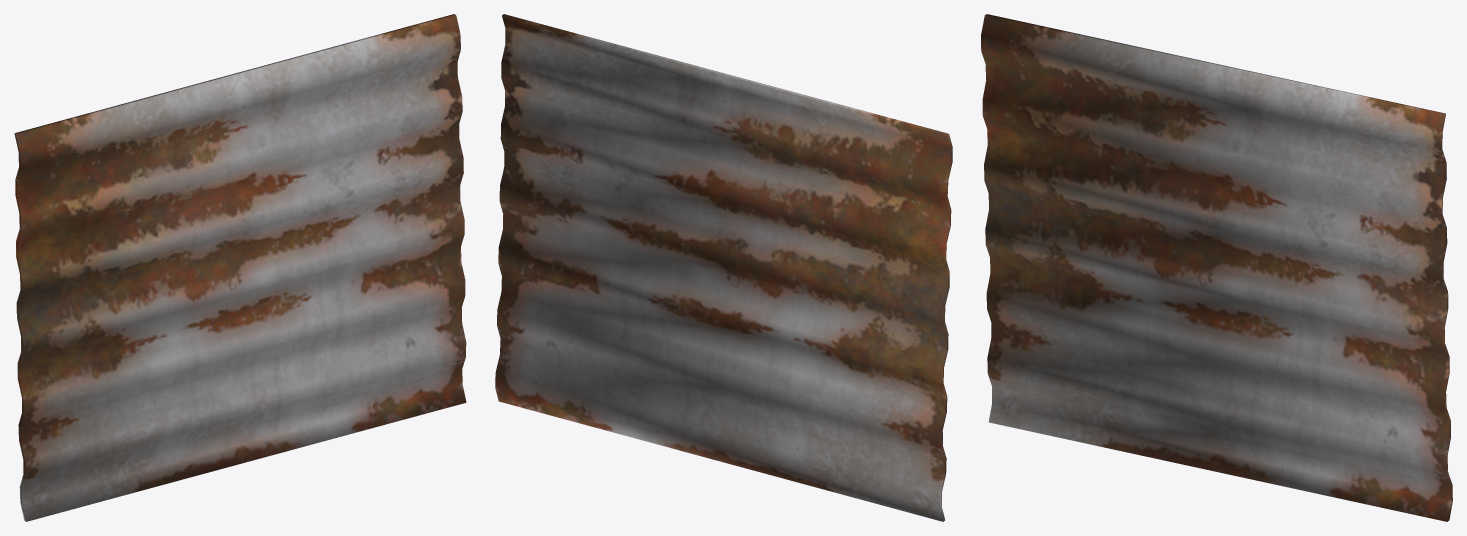
3 renders of one model, left to right at view 1: azimuth 30°, elevation 25°; view 2: azimuth 150°, elevation 25°; view 3: azimuth 330°, elevation 25°, orthographic. The views are drawn at different scales.
Visible parts, largest first — view 1: corrugated_sheet_b_06_Corrugated_Sheets_SHD_0; view 2: corrugated_sheet_b_06_Corrugated_Sheets_SHD_0; view 3: corrugated_sheet_b_06_Corrugated_Sheets_SHD_0.
Boxes of the visible parts, bbox=[...] form: corrugated_sheet_b_06_Corrugated_Sheets_SHD_0: bbox=[14, 14, 466, 521]; corrugated_sheet_b_06_Corrugated_Sheets_SHD_0: bbox=[495, 14, 952, 521]; corrugated_sheet_b_06_Corrugated_Sheets_SHD_0: bbox=[981, 14, 1452, 521].
Size of the model in its own units: 0.1108 by 0.0943 by 0.00324.
Materials: 1 (1 with a texture image).
